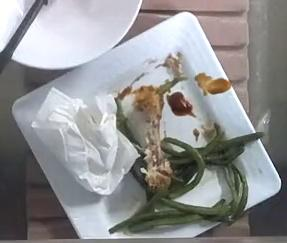green_beans: (109, 123, 262, 233)
